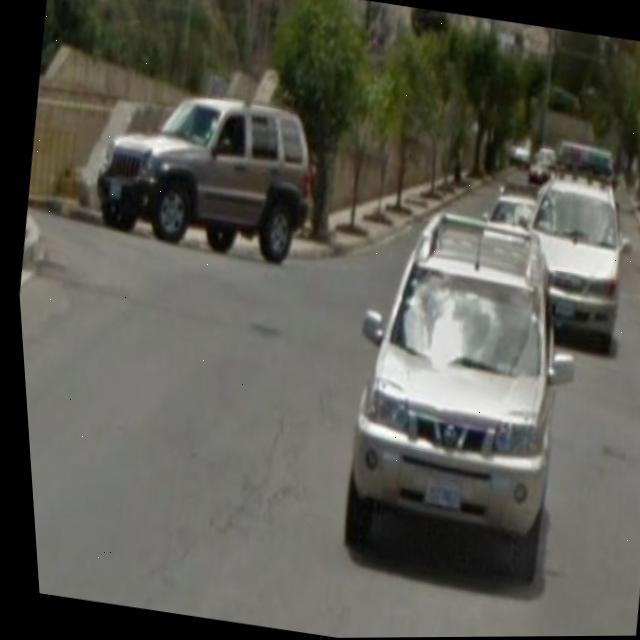vehicle: (351, 208, 597, 575), (91, 81, 320, 244), (514, 177, 634, 335)
